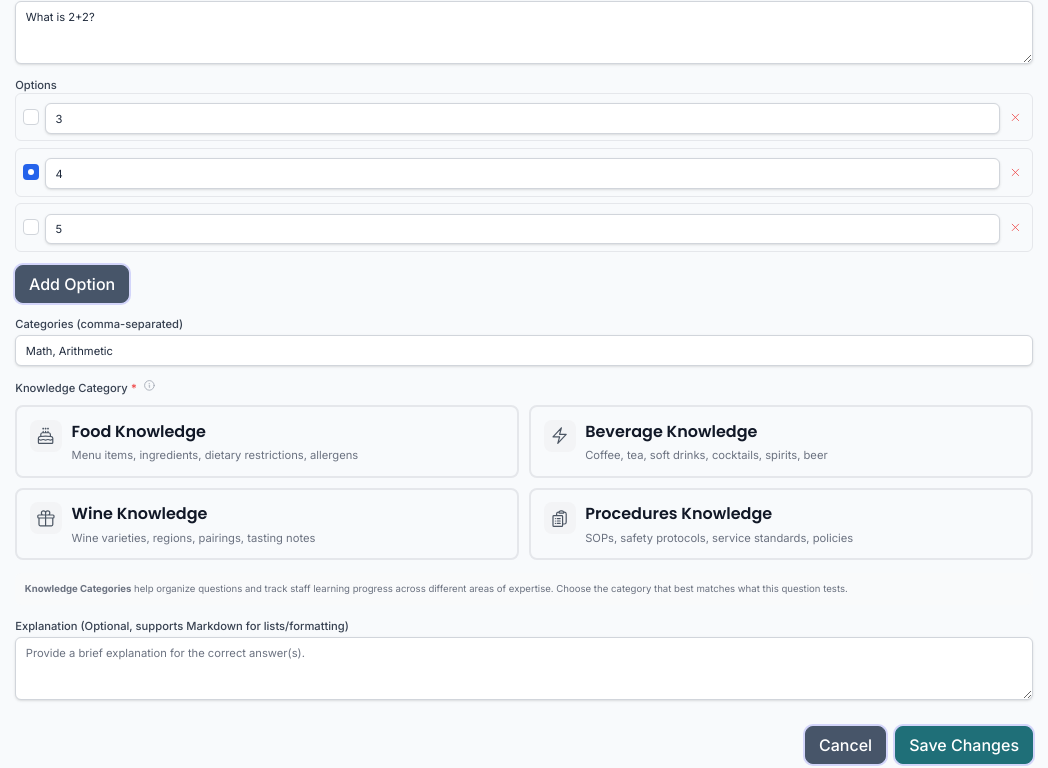
Test case: EditQuestionForm › shows "No changes detected" if submitted without changes
The width and height of the screenshot is (1048, 768).
(page scrolled)
Click the button "Save Changes" at (964, 745), box [896, 726, 1033, 764]
(page scrolled)
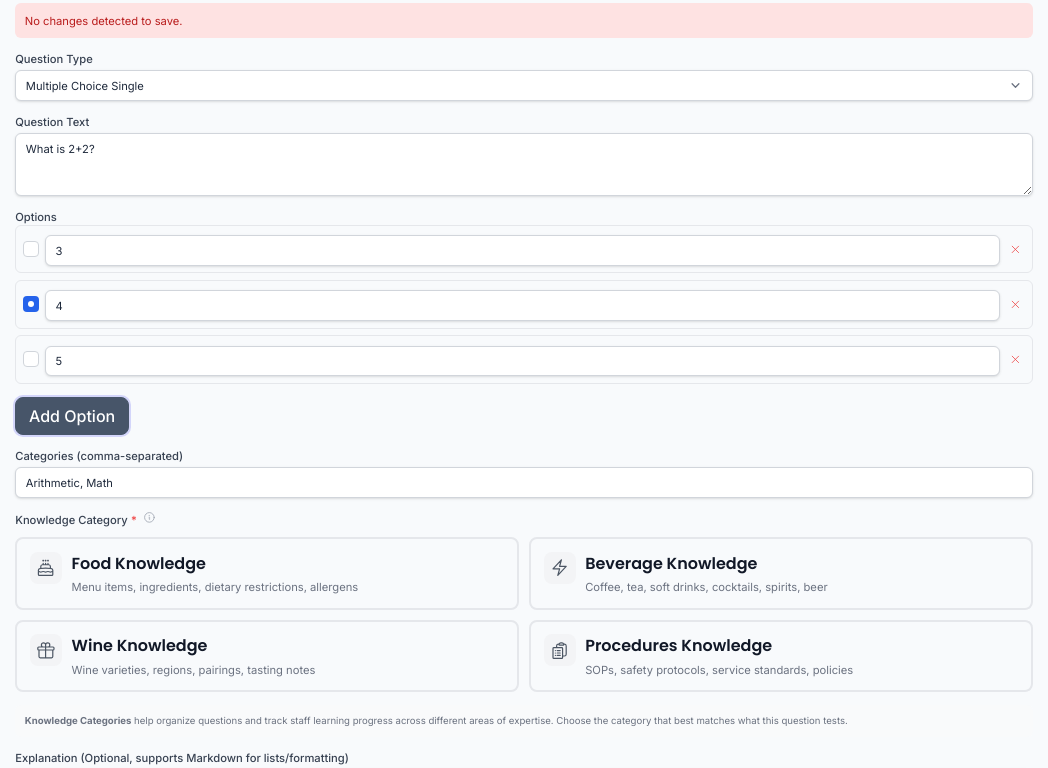
Result: the text "No changes detected to save." is shown at [15, 3, 1033, 38]
